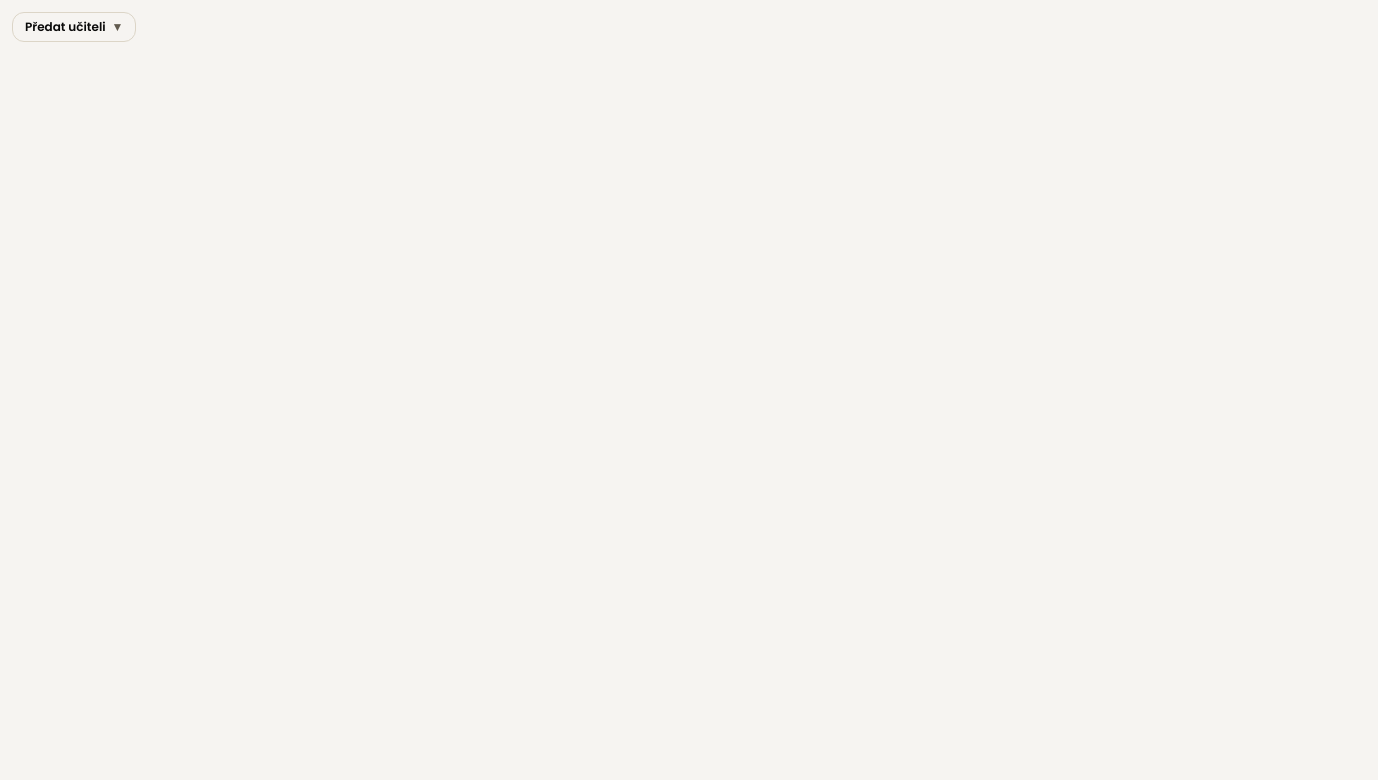
Test: PickerMenu › closes on Escape and on a click outside without picking
Click the button "Předat učiteli ▼": click(74, 27) [12,12,136,42]
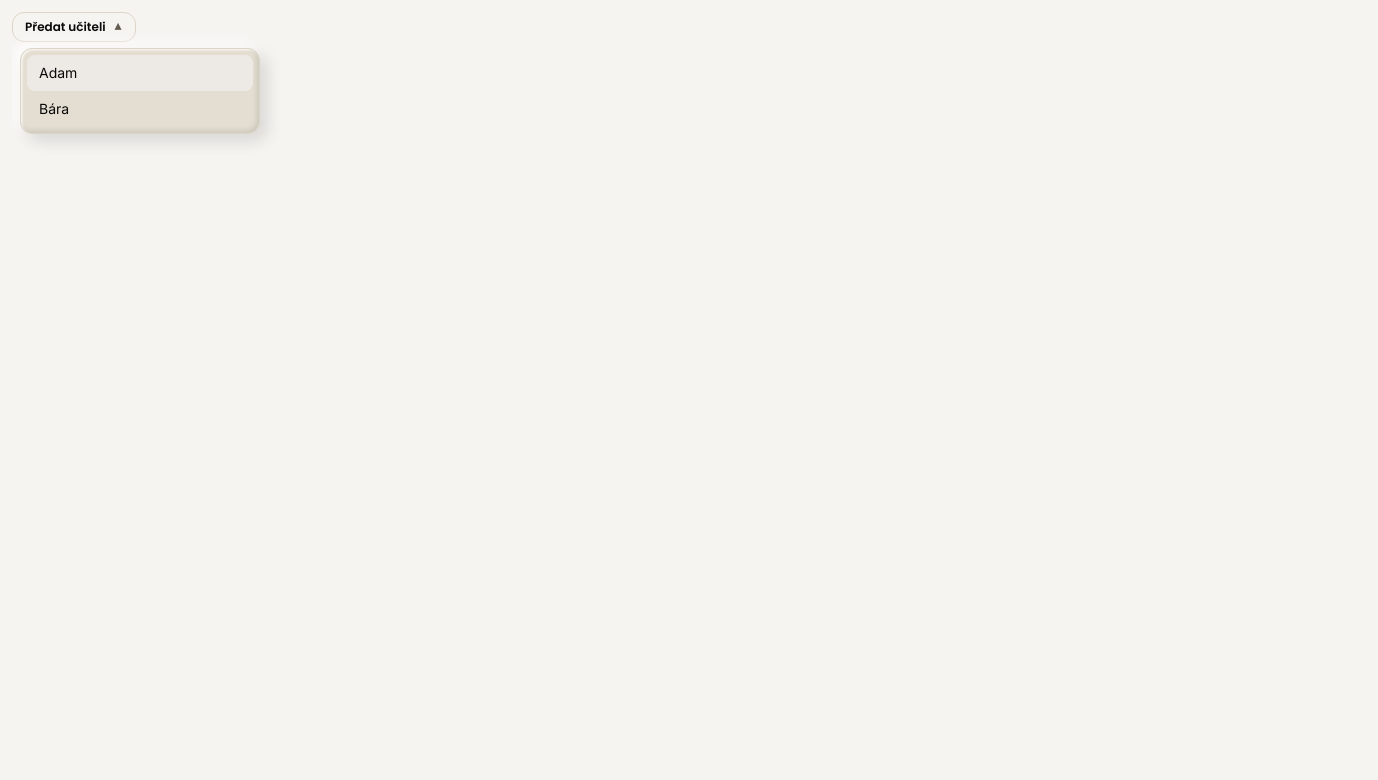
Press Escape in the list, box [27,55,253,127]
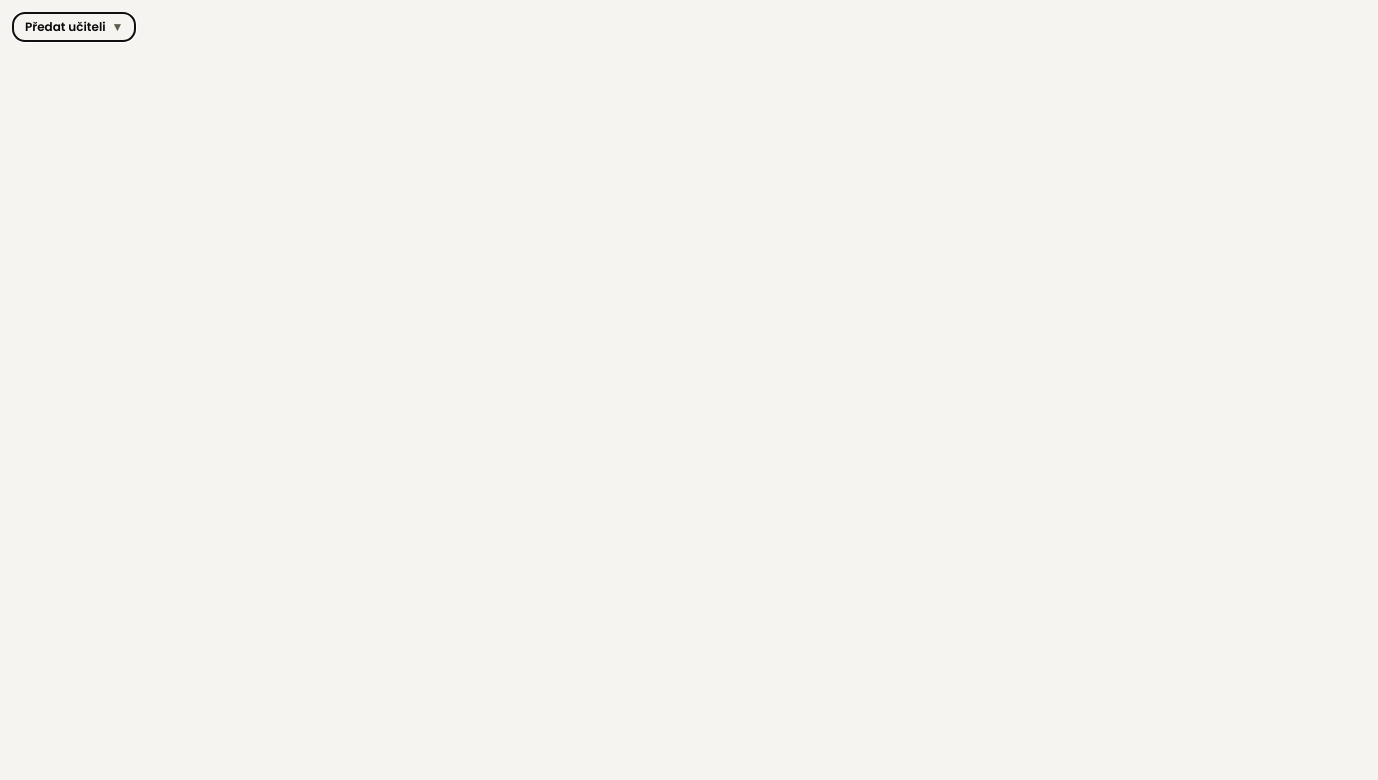
Result: the list is gone
Click the button "Předat učiteli ▼": click(74, 27) [12,12,136,42]
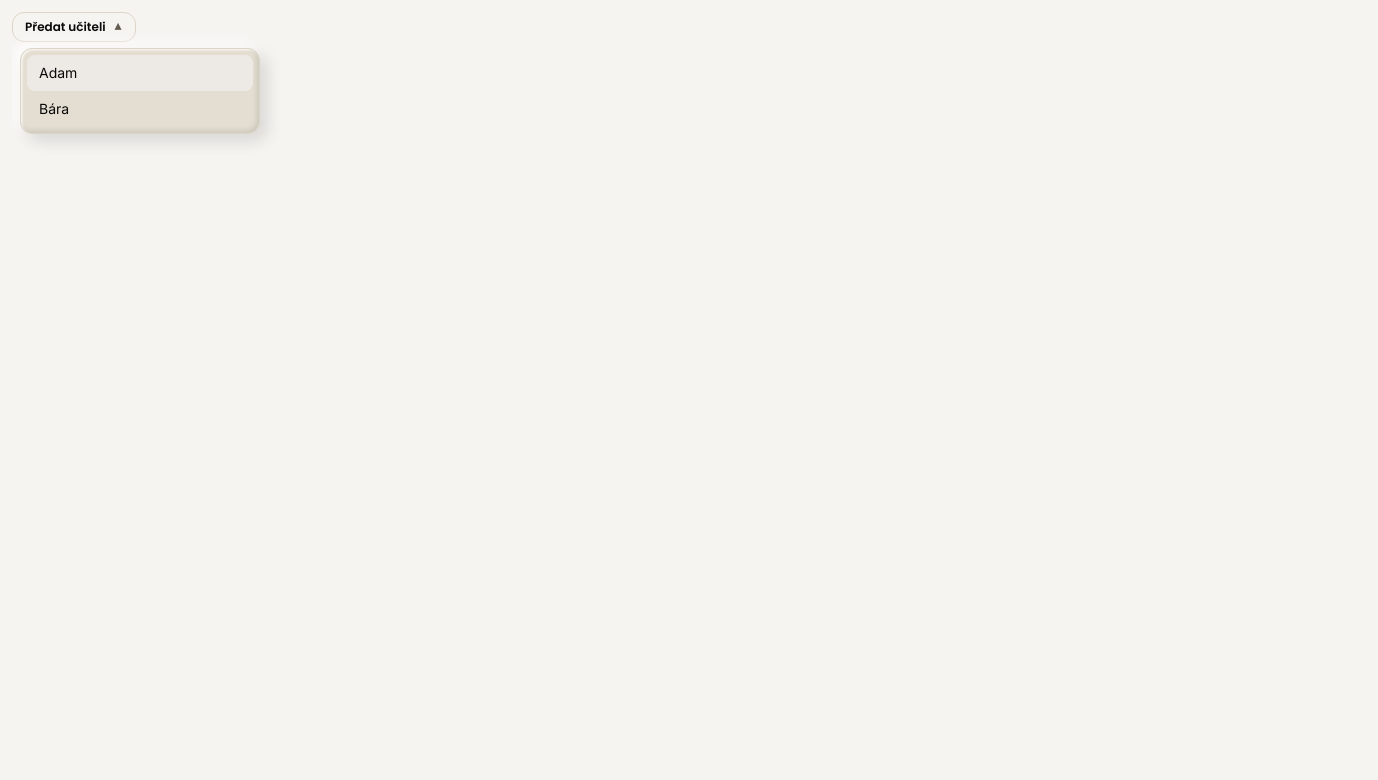
Press the mouse on the element showing "Předat učiteli ▼ Adam Bára": (695, 396) [12,12,1377,779]
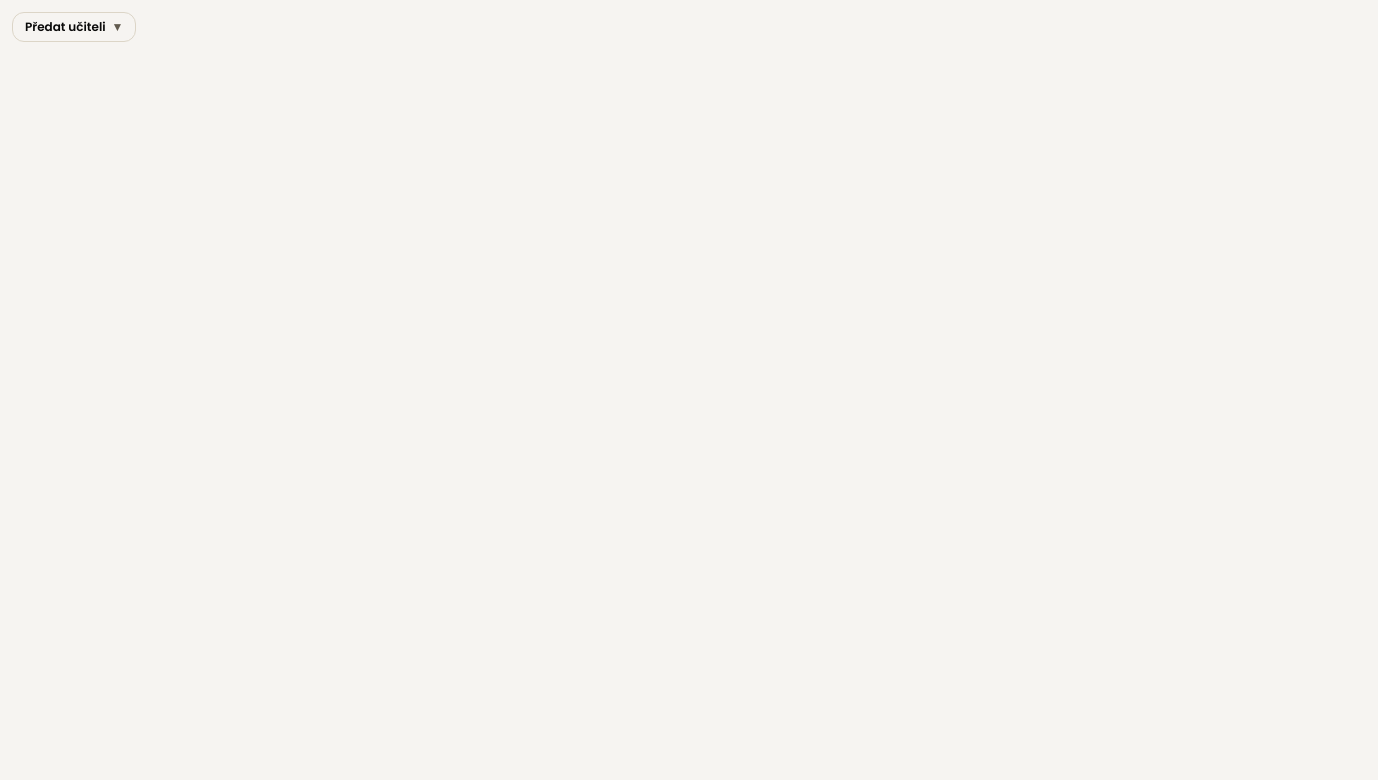
Result: the list is gone
